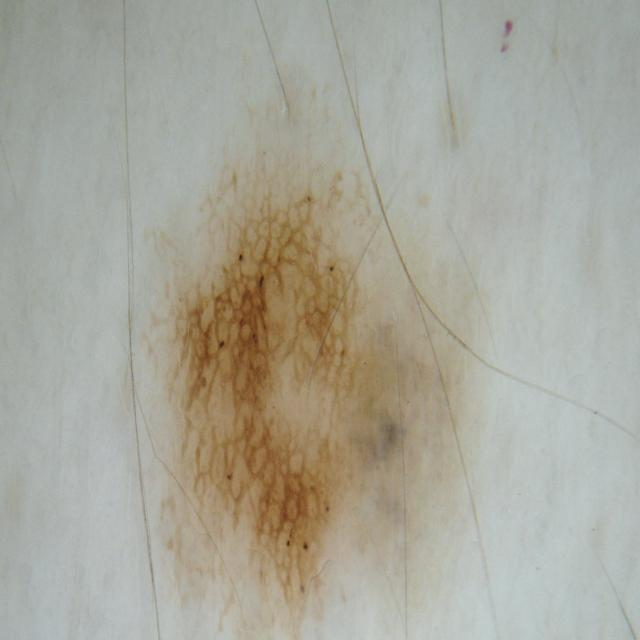Melanoma: (137, 137, 421, 616)
